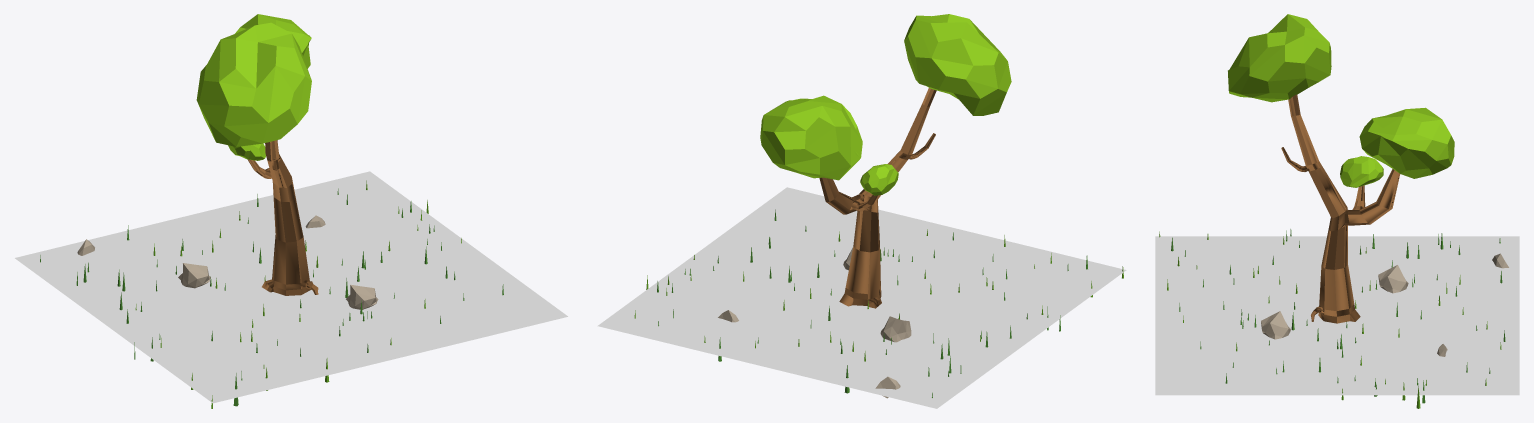
File: Tree.fbx
3 views of the same model, side by side, from view 1: azimuth 30°, elevation 25°; view 2: azimuth 150°, elevation 25°; view 3: azimuth 270°, elevation 25° (orthographic). The views are drawn at different scales.
Visible parts, largest first — view 1: Plane, Platonic_3, Cylinder, Platonic_1, Platonic_2_75, Platonic_2_37; view 2: Plane, Platonic_3, Platonic_1, Cylinder, Platonic, Platonic_2_75; view 3: Plane, Cylinder, Platonic_3, Platonic_1, Platonic, Platonic_2_75, Platonic_2_37.
Part boxes in pixels (box(x1,y1,x2,y2)): Plane: box(15, 171, 567, 403); Platonic_3: box(196, 22, 311, 146); Cylinder: box(248, 140, 318, 295); Platonic_1: box(235, 14, 311, 68); Platonic_2_75: box(178, 263, 210, 288); Platonic_2_37: box(346, 284, 378, 309); Plane: box(597, 187, 1126, 408); Platonic_3: box(904, 14, 1011, 115); Platonic_1: box(760, 95, 862, 180); Cylinder: box(819, 88, 936, 308); Platonic: box(860, 164, 898, 195); Platonic_2_75: box(880, 316, 911, 342); Plane: box(1155, 236, 1519, 395); Cylinder: box(1281, 94, 1400, 323); Platonic_3: box(1228, 14, 1331, 102); Platonic_1: box(1359, 107, 1454, 178); Platonic: box(1340, 156, 1383, 187); Platonic_2_75: box(1378, 265, 1408, 293); Platonic_2_37: box(1261, 311, 1290, 339).
Size of the model in its own units: 1447 by 1171 by 1363.
